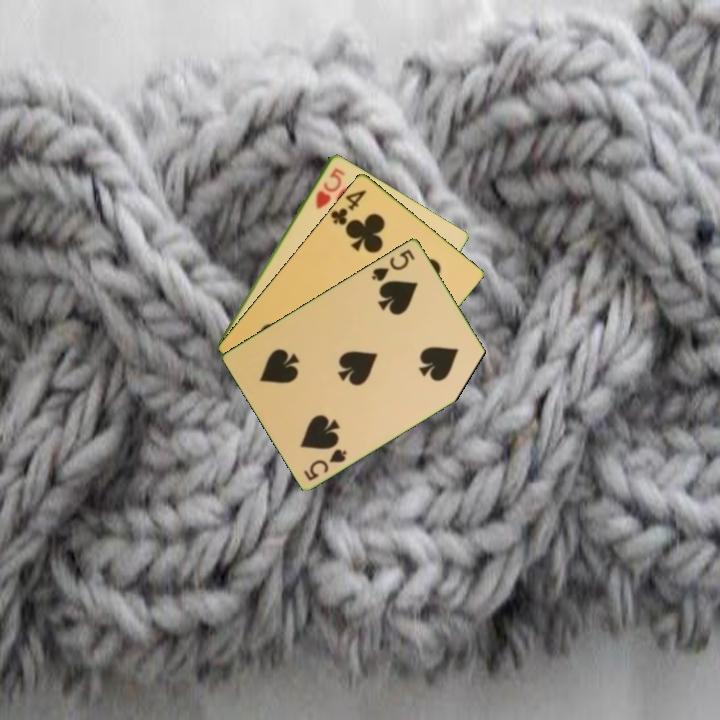4c: (327, 186, 369, 228)
5h: (312, 164, 348, 212)
5s: (368, 245, 418, 284), (300, 445, 350, 483)
